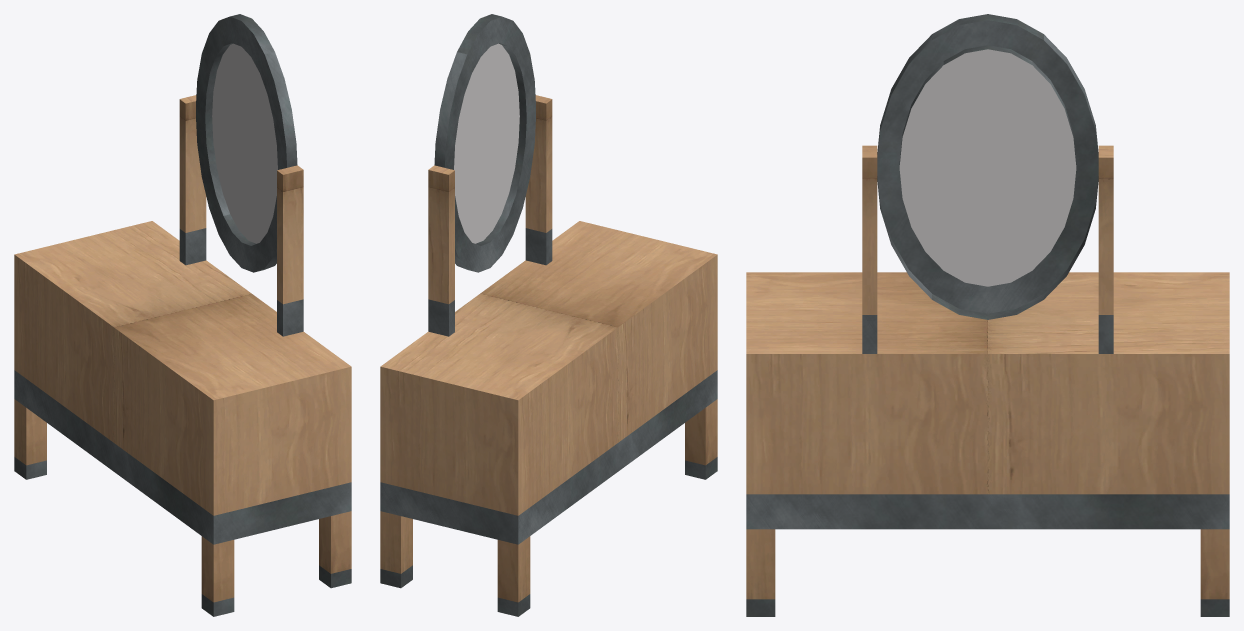
The model's file is vanity-concept-2.fbx.
3 renders of one model, left to right at view 1: azimuth 30°, elevation 25°; view 2: azimuth 150°, elevation 25°; view 3: azimuth 270°, elevation 25°, orthographic. The views are drawn at different scales.
Parts seen in each view (by area): view 1: block, window_round, columns_small (×3); view 2: block, window_round, columns_small (×3); view 3: block, window_round, columns_small (×2).
Part boxes in pixels (bbox=[...]): block: bbox=[14, 221, 351, 544]; window_round: bbox=[196, 14, 297, 272]; columns_small (×3): bbox=[14, 95, 351, 616]; block: bbox=[380, 221, 717, 544]; window_round: bbox=[434, 14, 535, 272]; columns_small (×3): bbox=[380, 95, 717, 616]; block: bbox=[746, 272, 1229, 529]; window_round: bbox=[877, 14, 1098, 319]; columns_small (×2): bbox=[746, 145, 1229, 616].
Bounding box in the file's own units: 4 × 13.62 × 10.
4 materials, 3 textured.
